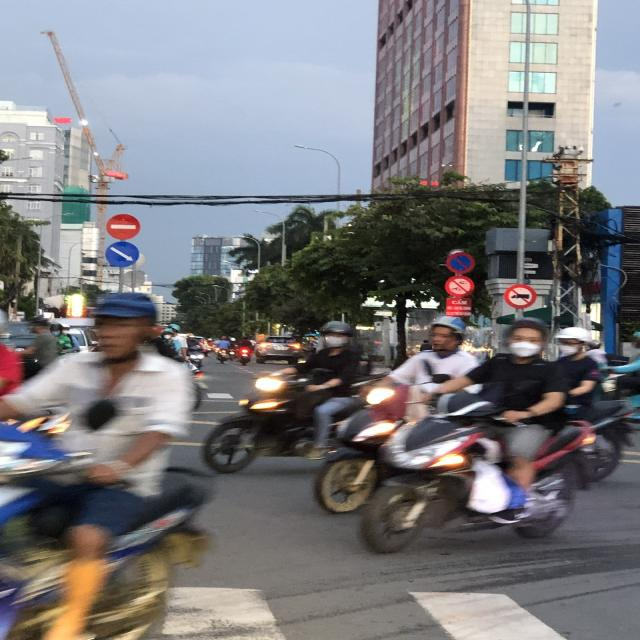Bien bao cam di nguoc chieu: (106, 211, 140, 240)
Bien bao cam do xe: (444, 250, 479, 275)
Bien bao cam xe so-mi ro-mooc: (502, 282, 540, 310)
Bien bao huong phai di vong chuong ngai vat: (105, 240, 142, 266)
